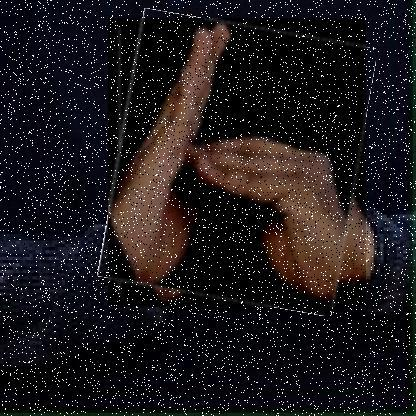Z: (108, 18, 367, 308)
